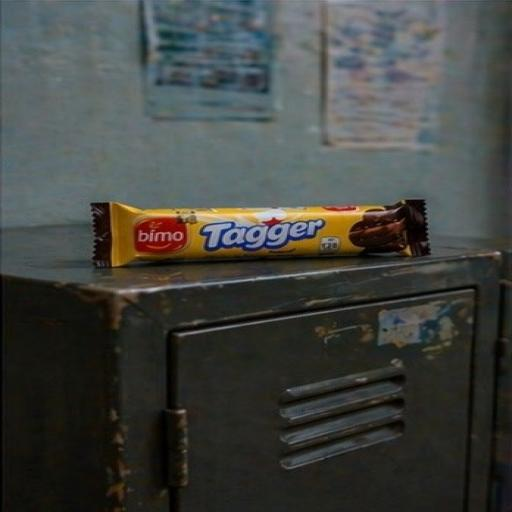tagger: (67, 143, 472, 303)
